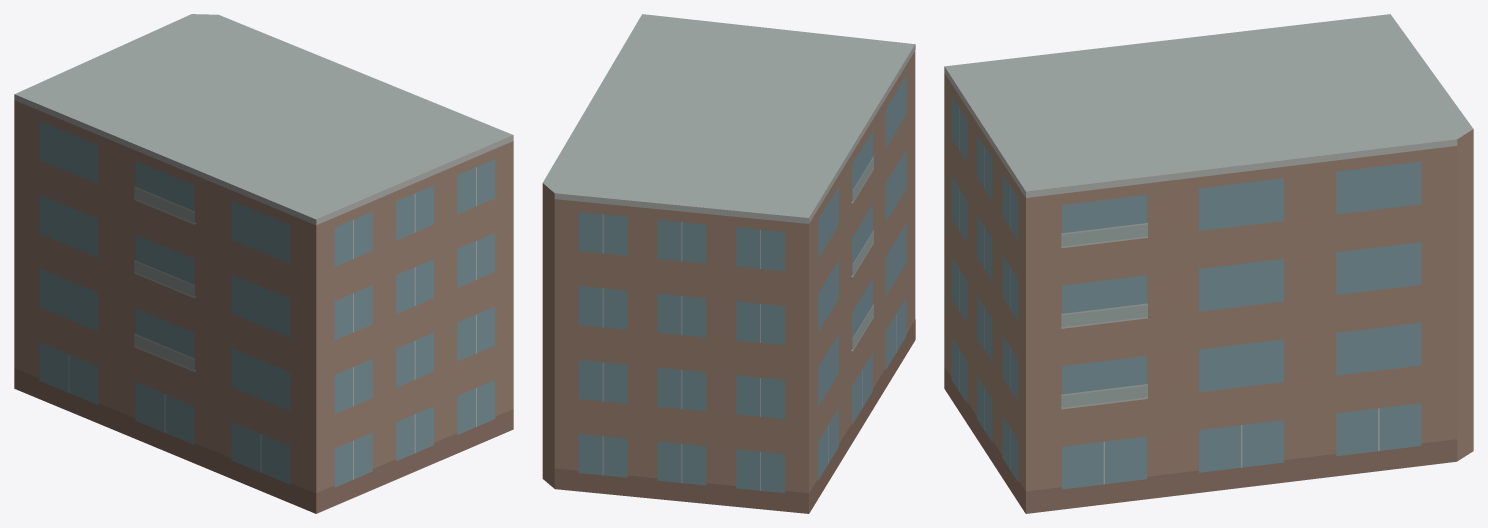
Rendered from survey-upis-32592765.glb.
3 views of the same model, side by side, from view 1: azimuth 30°, elevation 25°; view 2: azimuth 150°, elevation 25°; view 3: azimuth 270°, elevation 25° (orthographic). The views are drawn at different scales.
Visible parts, largest first — view 1: survey-upis-32592765.tmp; view 2: survey-upis-32592765.tmp; view 3: survey-upis-32592765.tmp.
Part boxes in pixels (<box>): survey-upis-32592765.tmp: <box>14,14,513,513</box>; survey-upis-32592765.tmp: <box>542,14,915,513</box>; survey-upis-32592765.tmp: <box>944,14,1473,513</box>.
Size of the model in its own units: 14.43 by 12.2 by 18.17.
